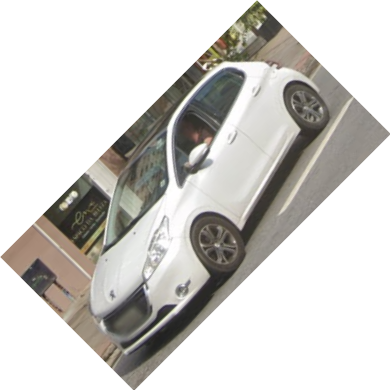car: (87, 59, 331, 356)
